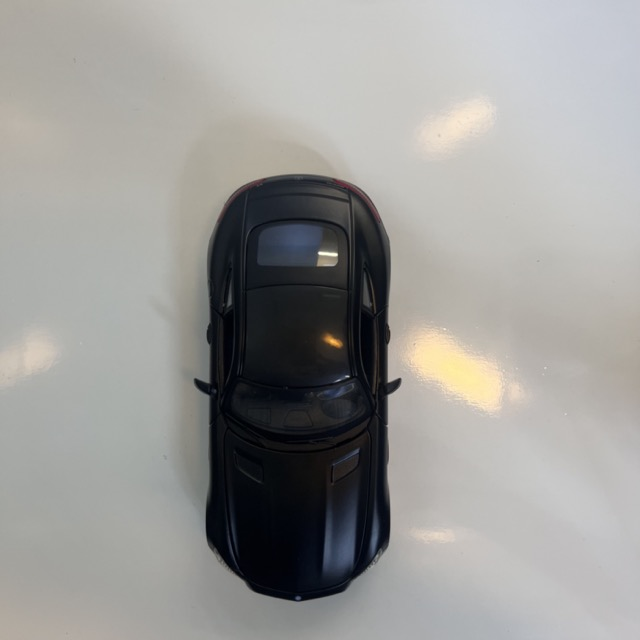car: (194, 172, 402, 603)
